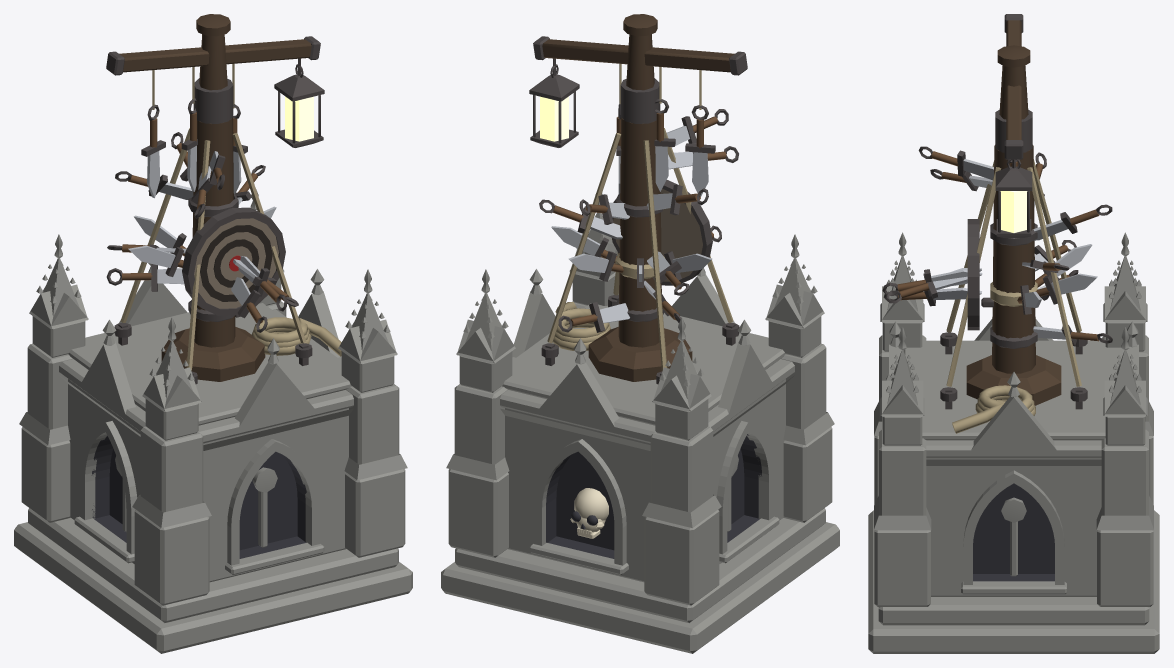
The model's file is tower_knife_1.glb.
The picture shows the model from 3 angles, left to right: view 1: azimuth 30°, elevation 25°; view 2: azimuth 150°, elevation 25°; view 3: azimuth 270°, elevation 25°; orthographic projection.
Visible parts, largest first — view 1: tower, turret; view 2: tower, turret; view 3: tower, turret.
Part boxes in pixels (x1,y1,x2,y2): tower: (14, 117, 412, 653); turret: (106, 14, 324, 198); tower: (441, 109, 839, 653); turret: (529, 14, 747, 196); tower: (868, 145, 1159, 653); turret: (995, 14, 1032, 238).
Bounding box in the file's own units: 1.7 × 3.51 × 1.7.
